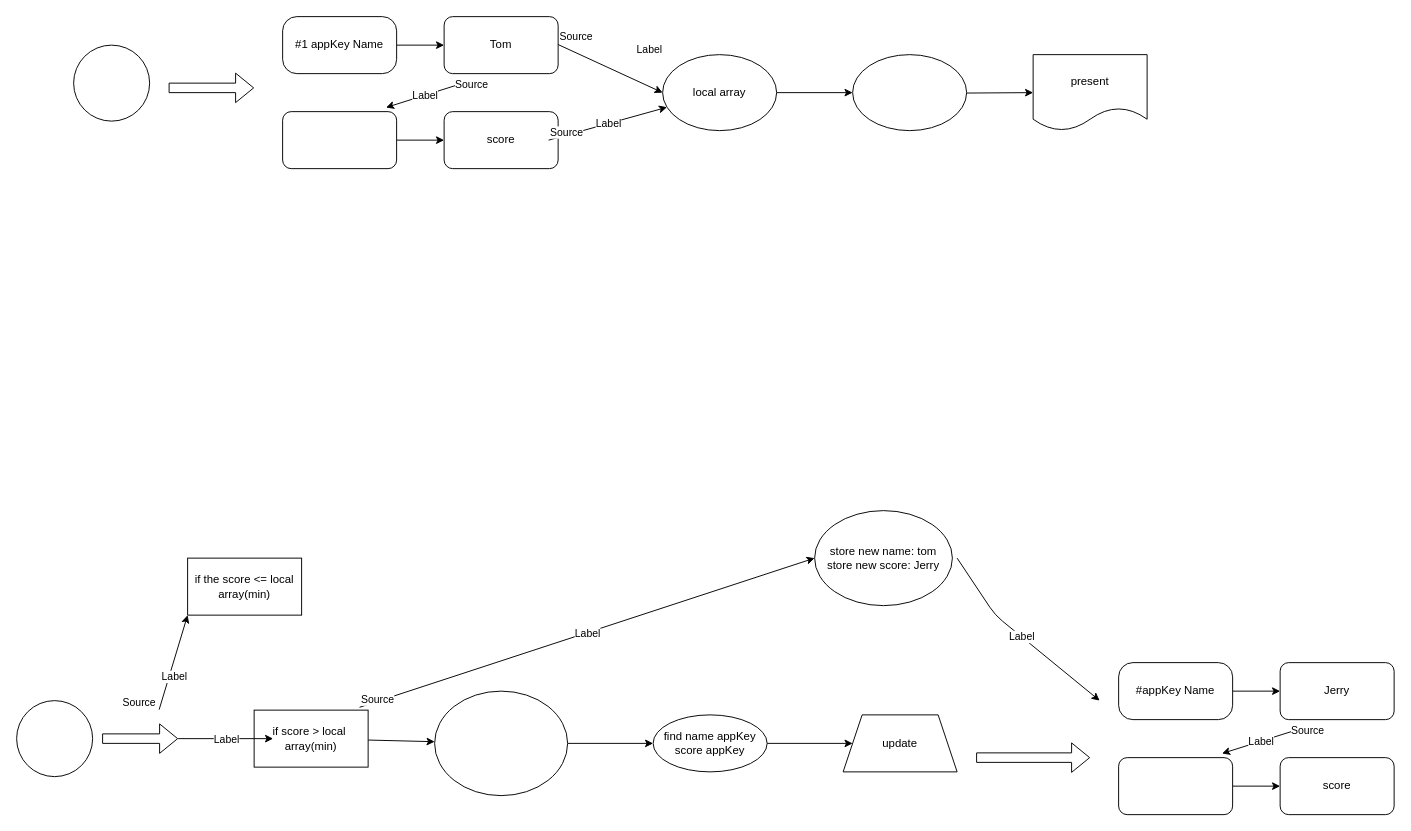
This 1411x831 diagram has some shape labels left out. The shapes that lost their labels are listed below. From the top down, each one's centre as x and y in pixels, then its label:
point 111,82: onload retrive from API
point 909,92: sort array in rank order
point 339,140: #1A appKey Tom
point 54,738: game over
point 501,743: find array(min)[name] array(min)[score]
point 1175,786: #A appKey Jerry
